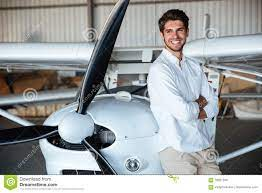person: (144, 6, 225, 175)
